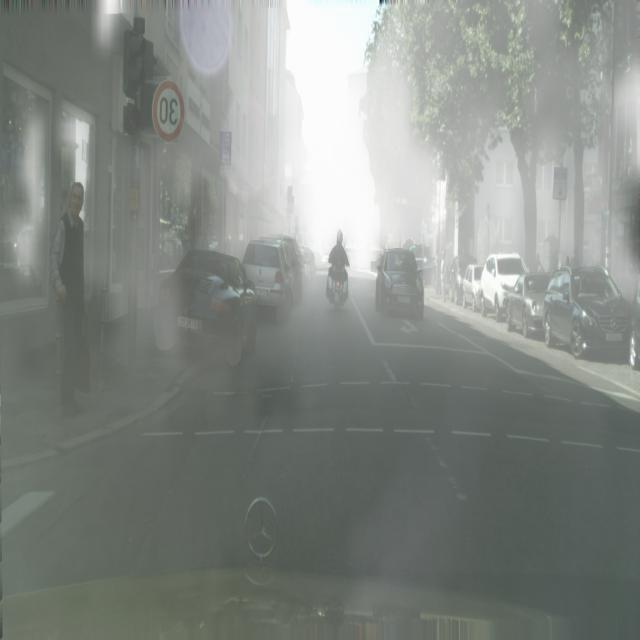bus: (324, 223, 352, 310)
person: (49, 181, 88, 418)
truck: (157, 249, 258, 367), (542, 264, 631, 361), (242, 239, 293, 322), (375, 248, 425, 319), (480, 251, 530, 321), (506, 272, 551, 339), (628, 274, 640, 369), (294, 246, 313, 305), (462, 263, 484, 311), (416, 256, 435, 289)
